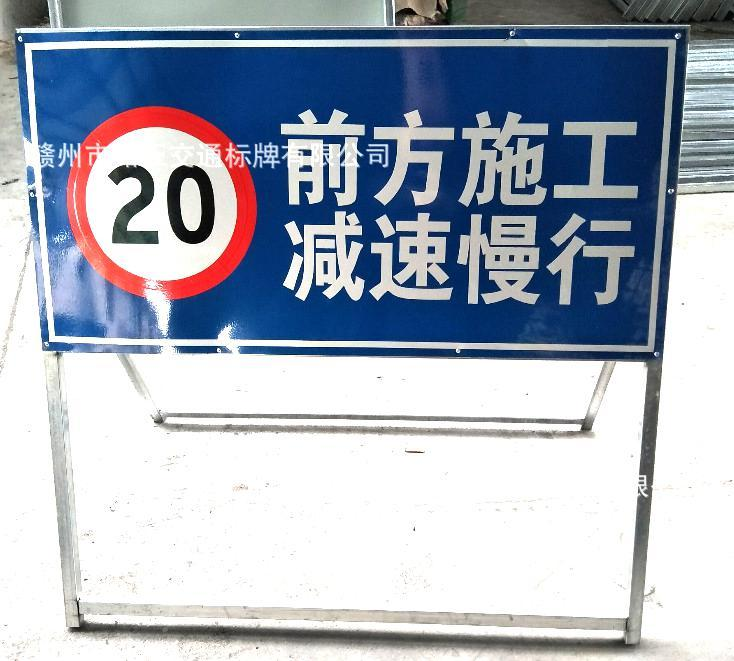sign: (20, 28, 668, 362)
